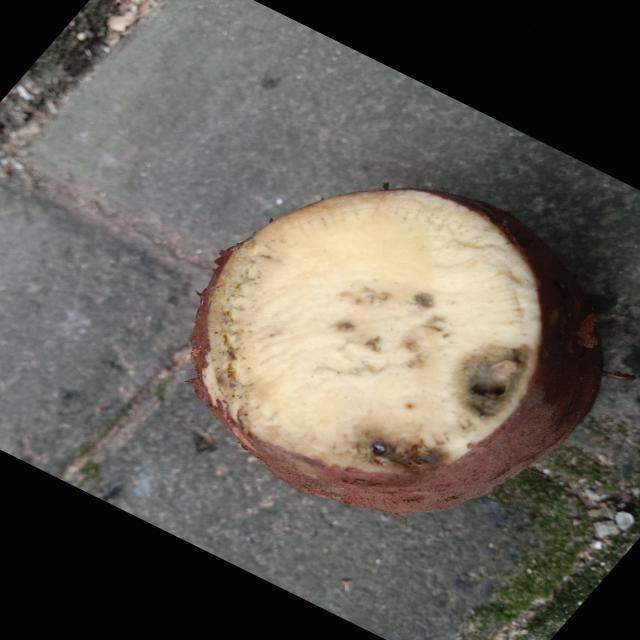Sick Sweet Potato_Tuber Rot: (202, 190, 542, 472)
